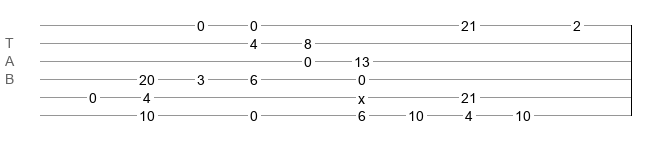0: (89, 90, 97, 100), (197, 18, 205, 28), (250, 18, 258, 28), (250, 108, 258, 118), (304, 54, 312, 64), (358, 72, 366, 82)
10: (139, 108, 155, 118), (408, 108, 424, 118), (515, 108, 531, 118)
13: (354, 54, 370, 64)
2: (573, 18, 581, 28)
20: (139, 72, 155, 82)
21: (461, 90, 477, 100), (461, 18, 477, 28)
3: (197, 72, 205, 82)
4: (143, 90, 151, 100), (250, 36, 258, 46), (465, 108, 473, 118)
6: (250, 72, 258, 82), (358, 108, 366, 118)
8: (304, 36, 312, 46)
x: (358, 91, 365, 99)
